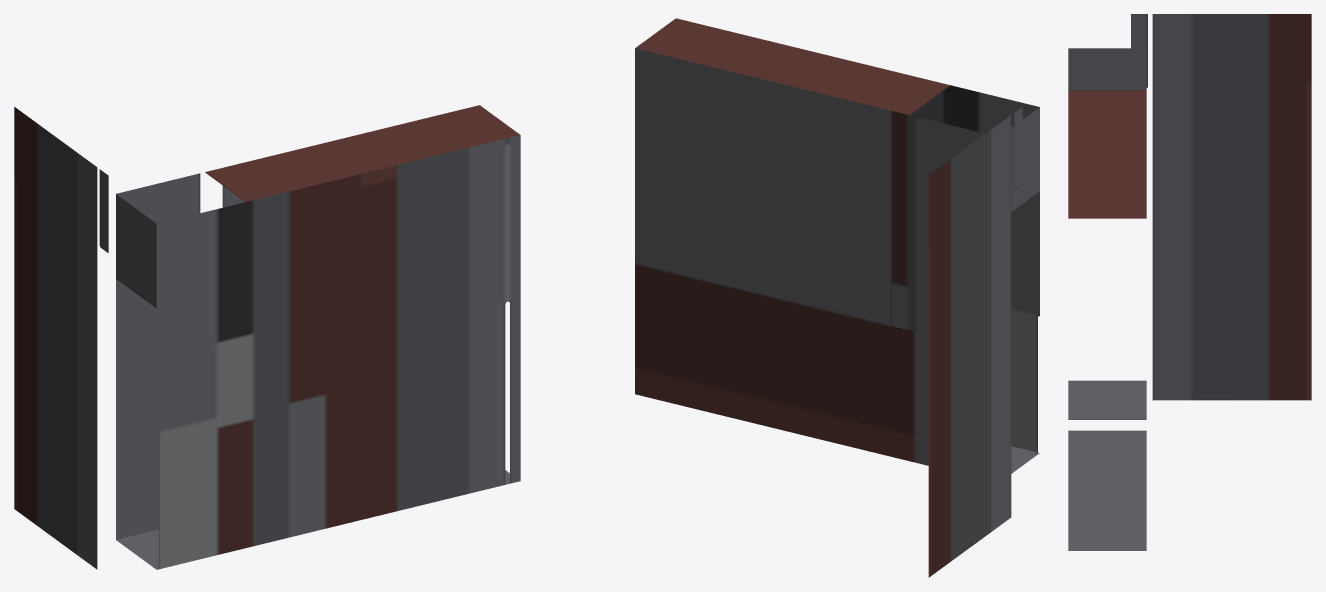
The model's file is section-0.obj.
3 renders of one model, left to right at view 1: azimuth 30°, elevation 25°; view 2: azimuth 150°, elevation 25°; view 3: azimuth 270°, elevation 25°, orthographic. The views are drawn at different scales.
Bounding box in the file's own units: 0.9454 × 0.9583 × 0.5474.
